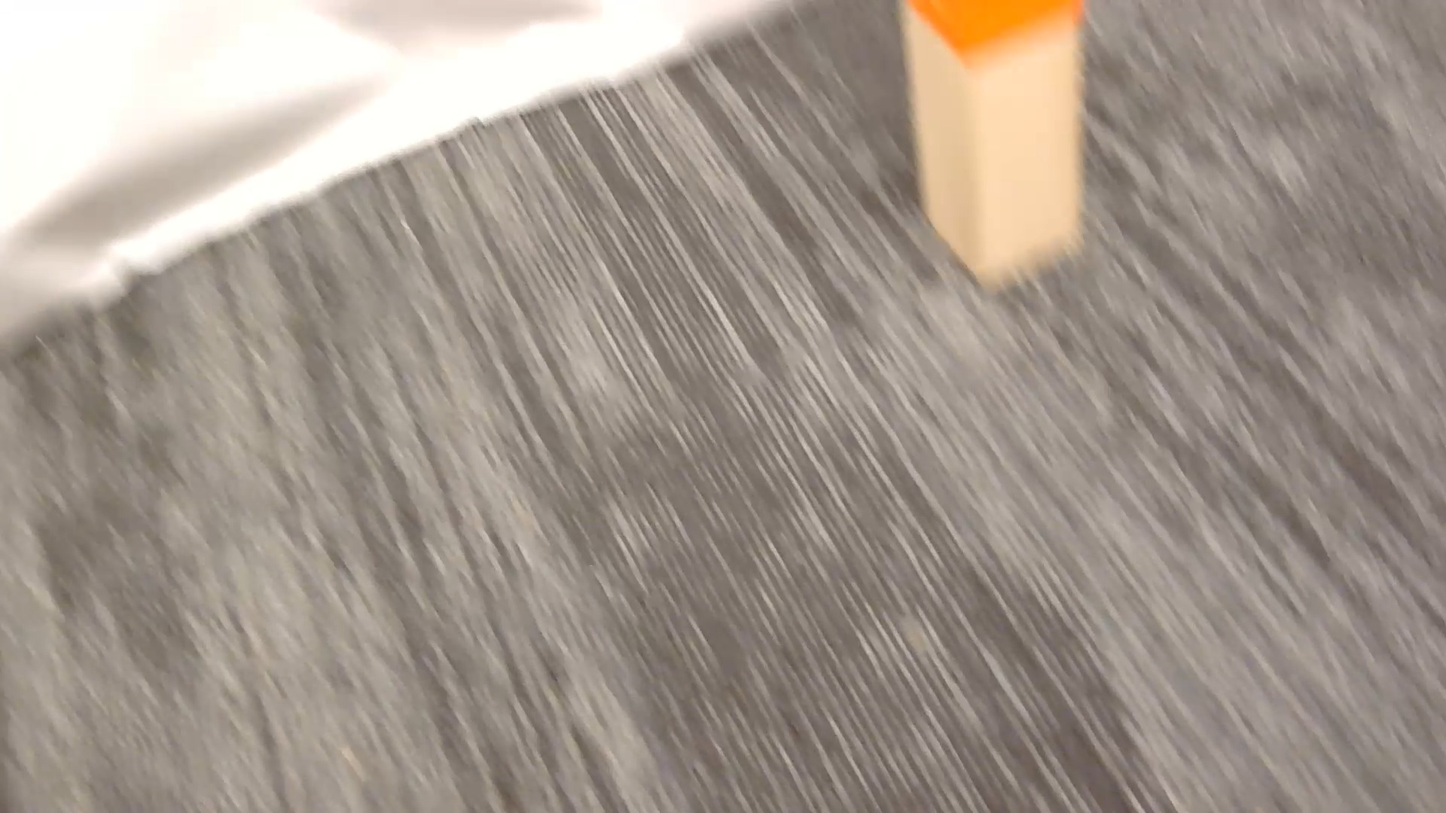Wooden Block: (900, 0, 1083, 285)
